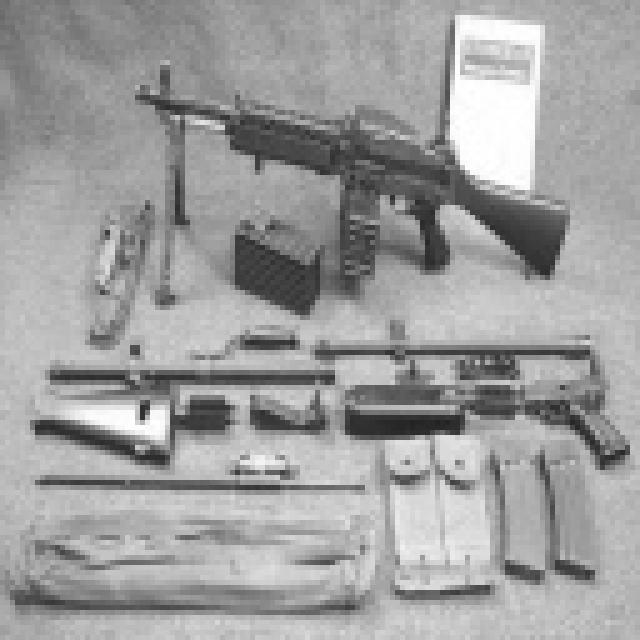Rifle: (92, 56, 598, 323)
